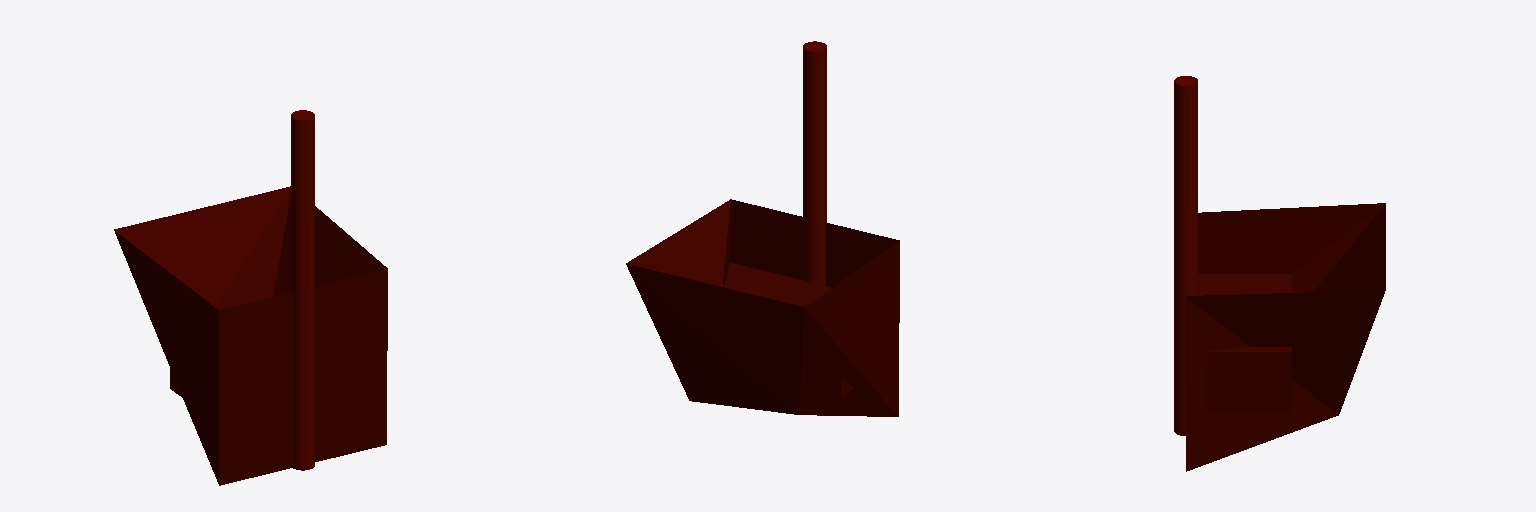
File: carrinhox.obj
3 views of the same model, side by side, from view 1: azimuth 30°, elevation 25°; view 2: azimuth 150°, elevation 25°; view 3: azimuth 270°, elevation 25° (orthographic).
Parts seen in each view (by area): view 1: Cylinder; view 2: Cylinder; view 3: Cylinder.
Part boxes in pixels (x1,y1,x2,y2): Cylinder: (114, 110, 387, 485); Cylinder: (626, 41, 899, 416); Cylinder: (1174, 76, 1385, 471).
Bounding box in the file's own units: 2.13 × 4 × 2.19.